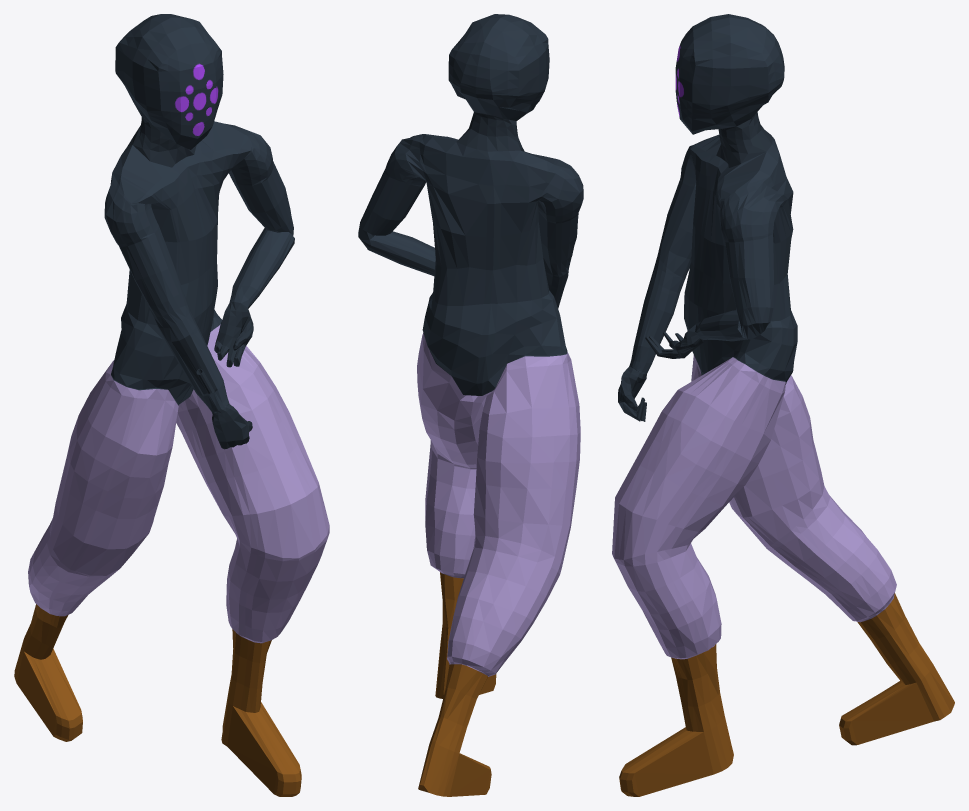
Rendered from Oracle_Run_000024.obj.
3 renders of one model, left to right at view 1: azimuth 30°, elevation 25°; view 2: azimuth 150°, elevation 25°; view 3: azimuth 270°, elevation 25°, orthographic. The views are drawn at different scales.
Parts seen in each view (by area): view 1: Cube; view 2: Cube; view 3: Cube.
Boxes of the visible parts, bbox=[...] form: Cube: bbox=[14, 14, 329, 796]; Cube: bbox=[358, 14, 583, 796]; Cube: bbox=[612, 14, 954, 796].
Size of the model in its own units: 1.18 by 3.81 by 1.59.
